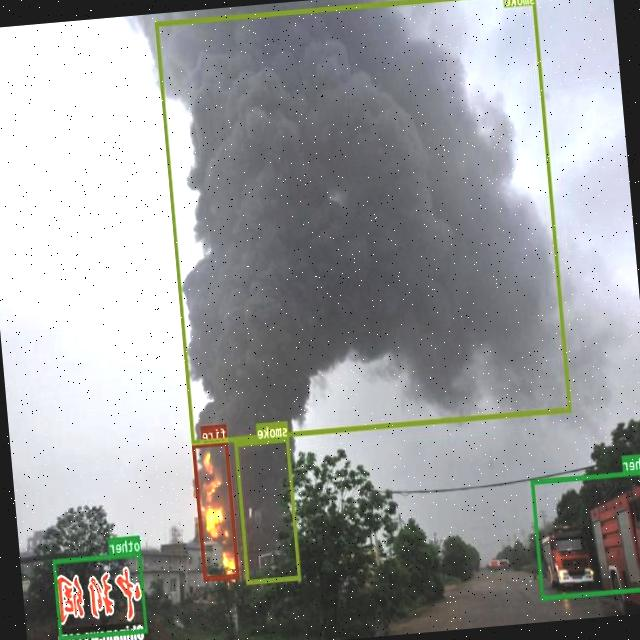fire: (192, 439, 239, 580)
smoke: (155, 0, 572, 444), (234, 436, 302, 583)
